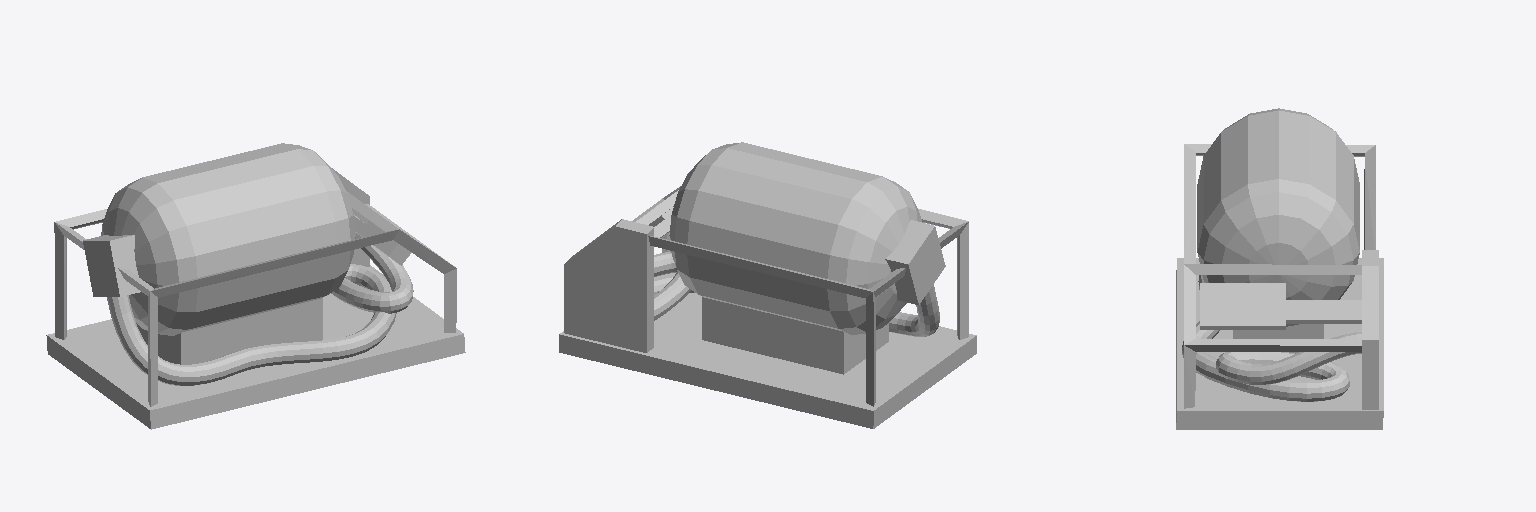
Rendered from boiler.obj.
The picture shows the model from 3 angles: view 1: azimuth 30°, elevation 25°; view 2: azimuth 150°, elevation 25°; view 3: azimuth 270°, elevation 25°; orthographic projection.
Visible parts, largest first — view 1: BezierCurve; view 2: BezierCurve; view 3: BezierCurve.
Part boxes in pixels (x1,y1,x2,y2): BezierCurve: (46,143,465,429); BezierCurve: (559,142,976,428); BezierCurve: (1176,108,1383,429).
Size of the model in its own units: 2 by 1.18 by 1.14.